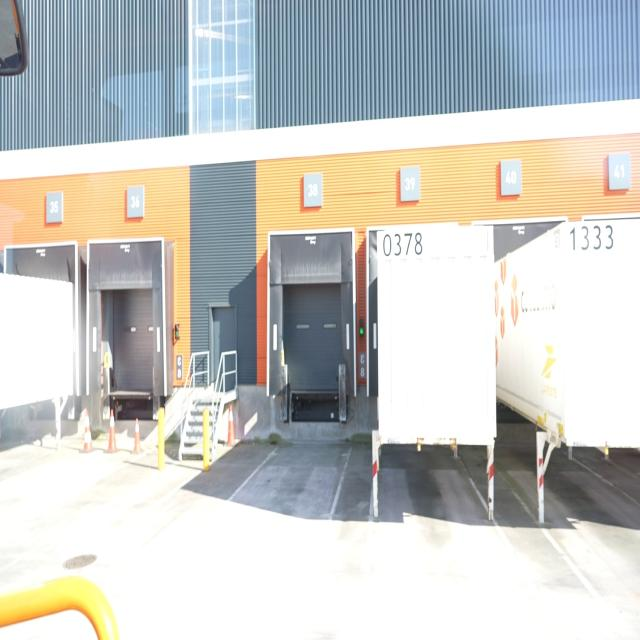Code: (568, 219, 618, 254), (379, 229, 426, 261)
